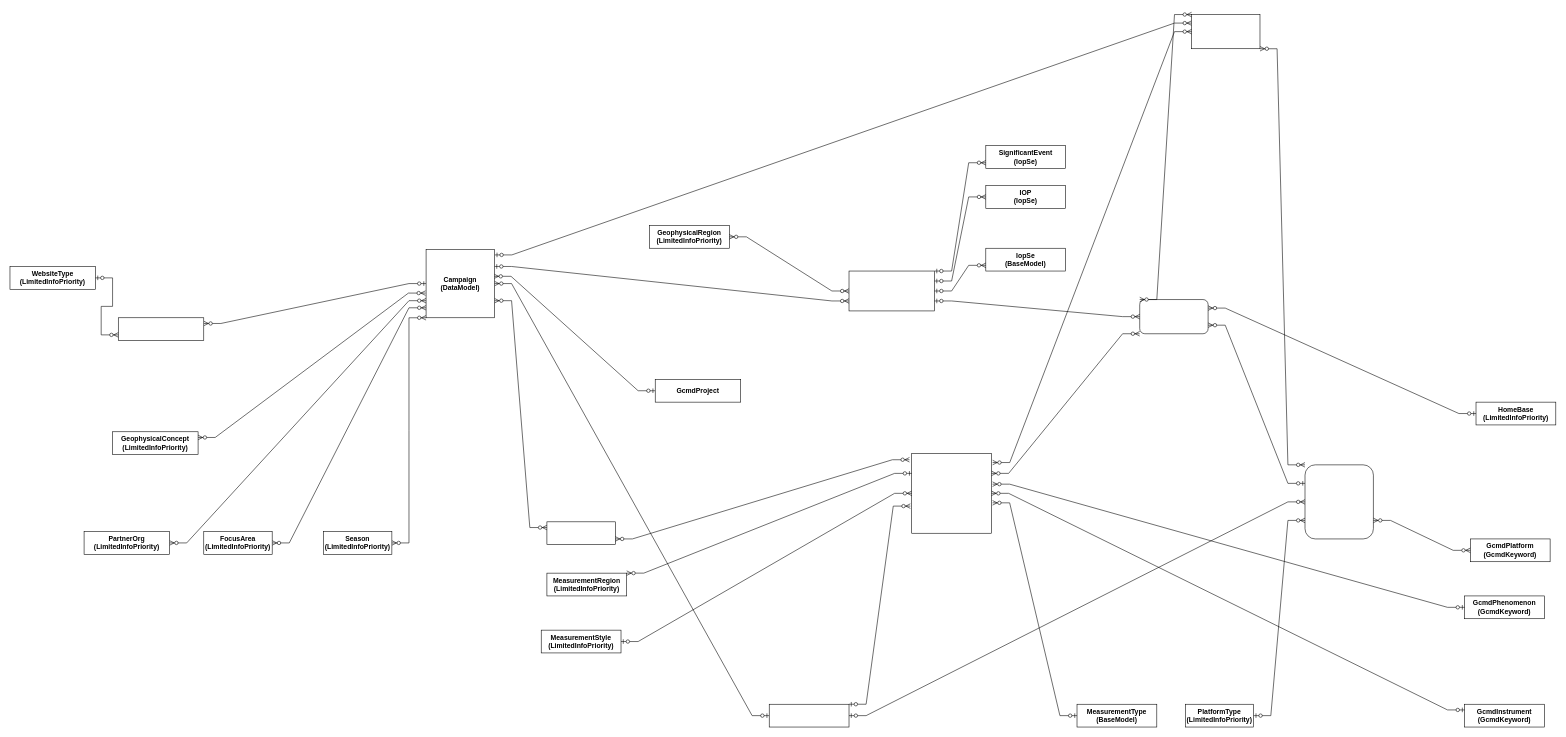
The diagram is 1566 pixels wide and 737 high, and some of its shapes have lost their labels. The shapes that lost their labels are listed below. From the top down, each one's centre as x and y in pixels, then its label:
At (1225,31): "DOI (BaseModel)".
At (891,290): "Deployment (DataModel )".
At (161,329): "Website ( BaseModel )".
At (1173,316): "CollectionPeriod (BaseModel )".
At (951,493): "Instrument (DataModel)".
At (1338,501): "Platform (DataModel )".
At (580,533): "Repository ( LimitedInfoPriority )".
At (809,715): "Image (BaseModel)".
